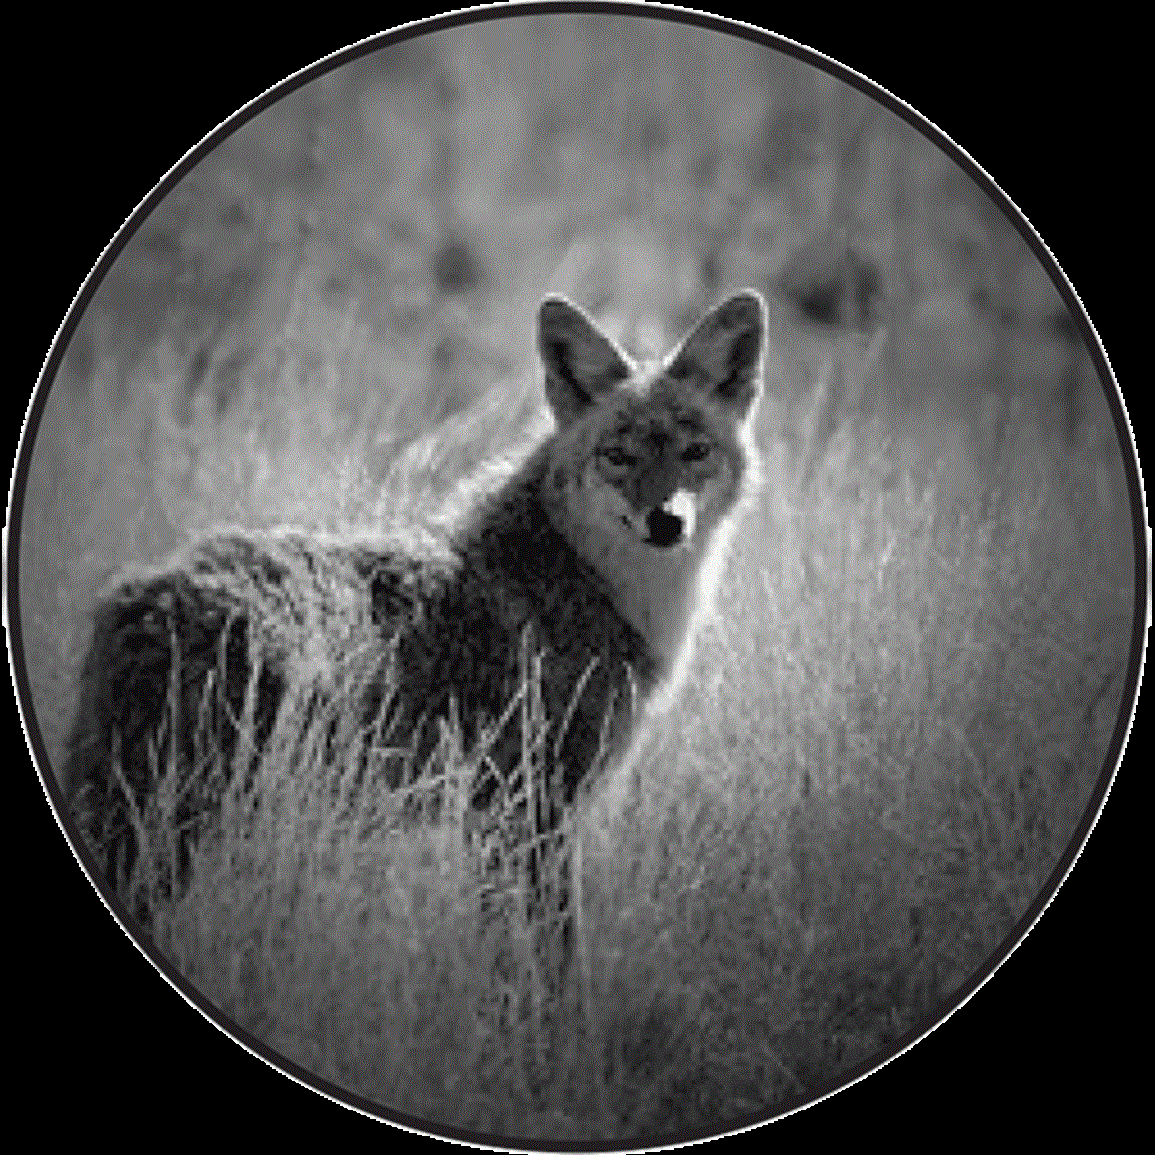fox: (82, 263, 799, 891)
